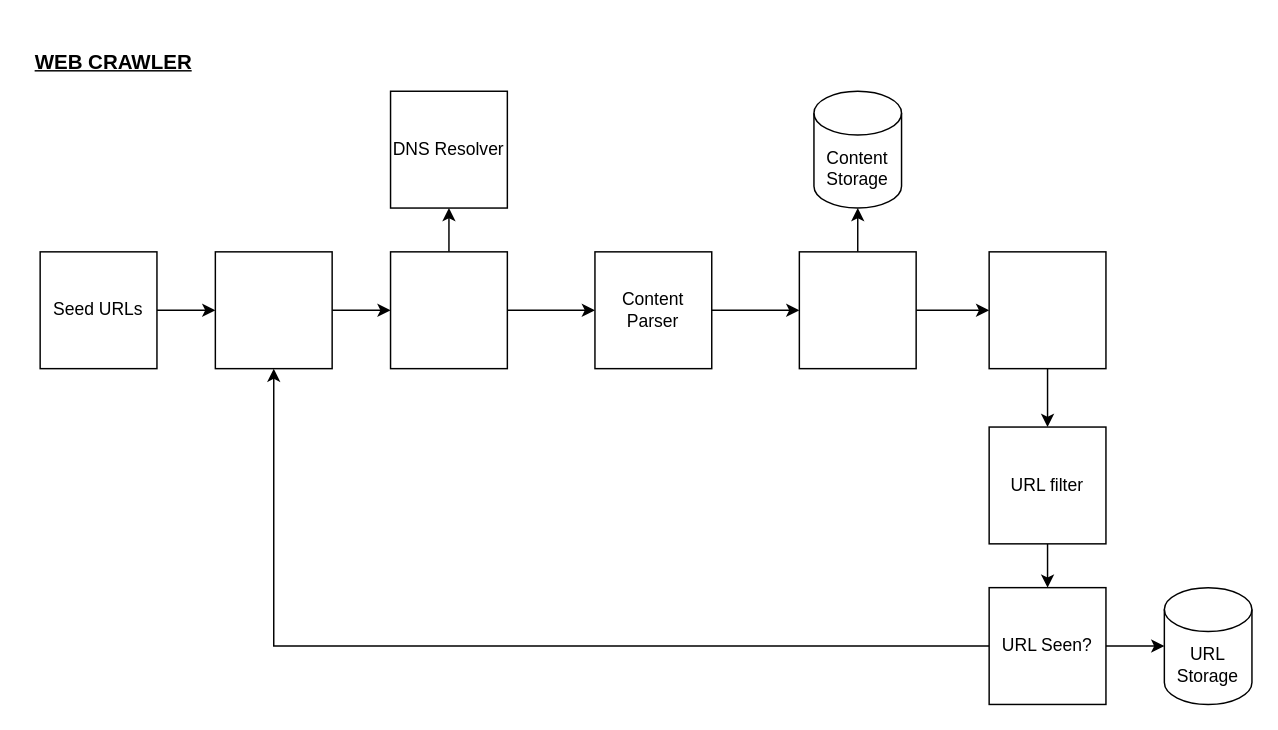
Some shapes in this 1278 by 730 pixel diagram are drawn without their labels. The shapes that lost their labels are listed below. From the top down, each one's centre as x and y in pixels, then its label:
pixel 273 309: URL Frontier
pixel 448 309: HTML Downloader
pixel 857 309: Content Seen
pixel 1047 309: Link Extractor
